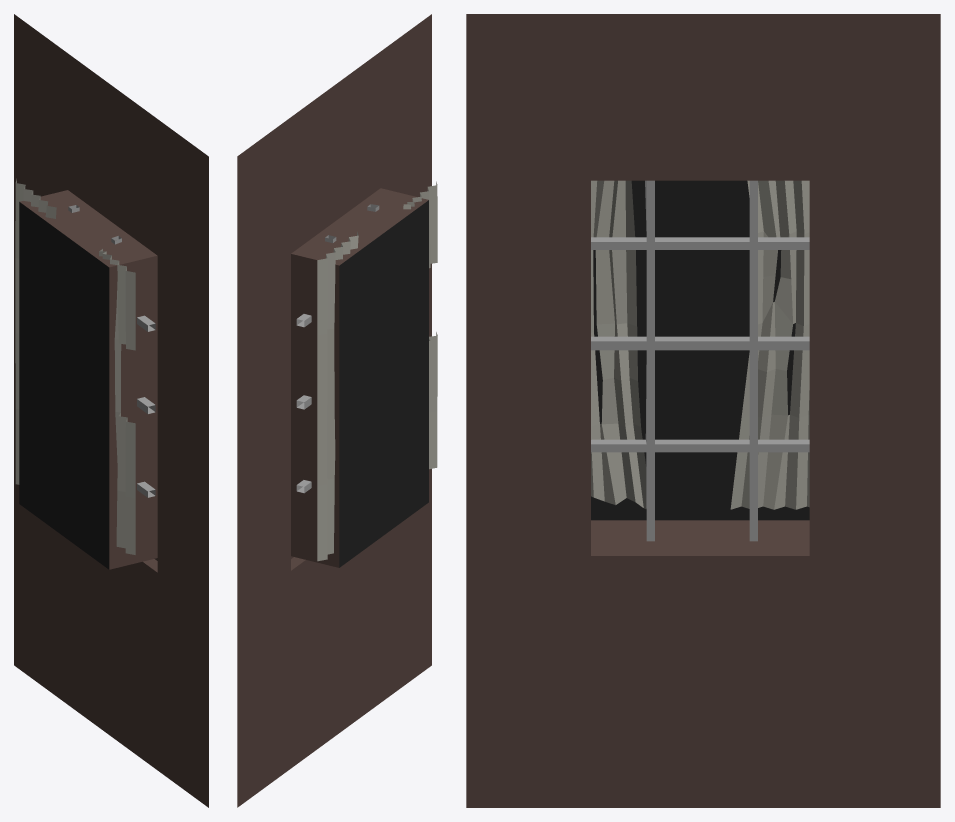
File: houseWall_2.fbx
The picture shows the model from 3 angles, left to right: view 1: azimuth 30°, elevation 25°; view 2: azimuth 150°, elevation 25°; view 3: azimuth 270°, elevation 25°; orthographic projection. The views are drawn at different scales.
Visible parts, largest first — view 1: houseWall_2; view 2: houseWall_2; view 3: houseWall_2.
Part boxes in pixels (left/top/right/bottom): houseWall_2: left=14, top=14, right=208, bottom=807; houseWall_2: left=237, top=14, right=437, bottom=807; houseWall_2: left=466, top=14, right=940, bottom=807.
Bounding box in the file's own units: 46.45 × 480 × 260.
